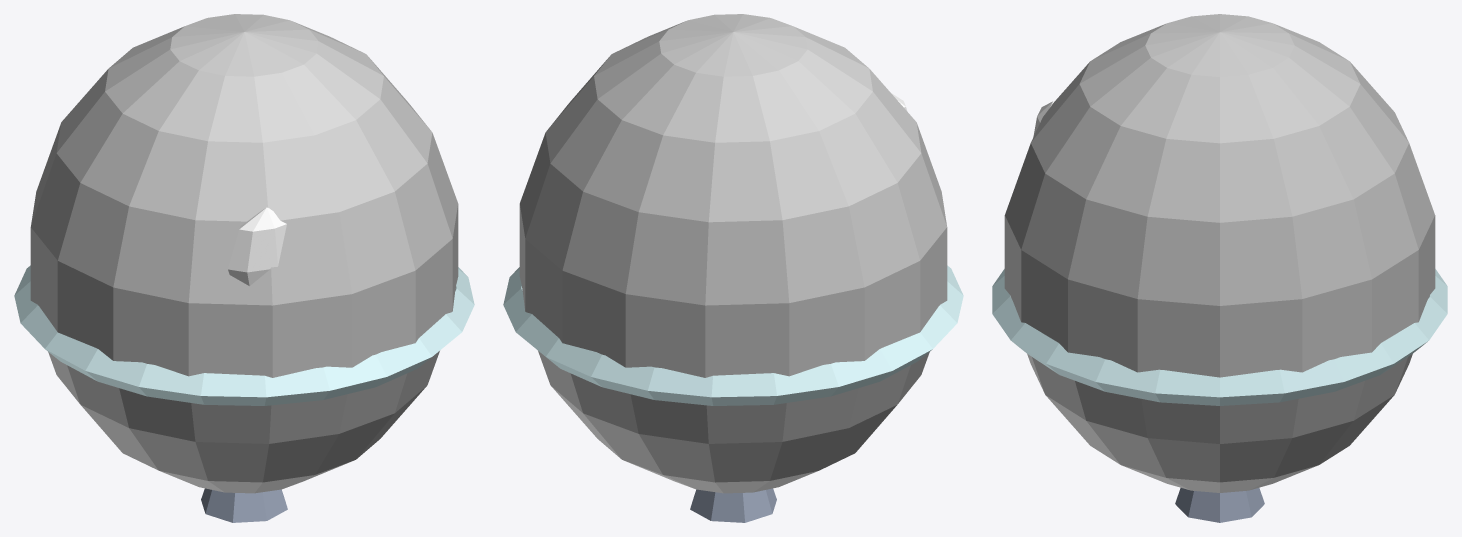
File: globo_energia.glb
3 renders of one model, left to right at view 1: azimuth 30°, elevation 25°; view 2: azimuth 150°, elevation 25°; view 3: azimuth 270°, elevation 25°, orthographic.
Visible parts, largest first — view 1: globo_energia; view 2: globo_energia; view 3: globo_energia.
Part boxes in pixels (box(x1,y1,x2,y2)): globo_energia: box(14, 14, 474, 522); globo_energia: box(503, 14, 963, 522); globo_energia: box(992, 14, 1447, 522).
Size of the model in its own units: 0.716 by 0.81 by 0.7087.
